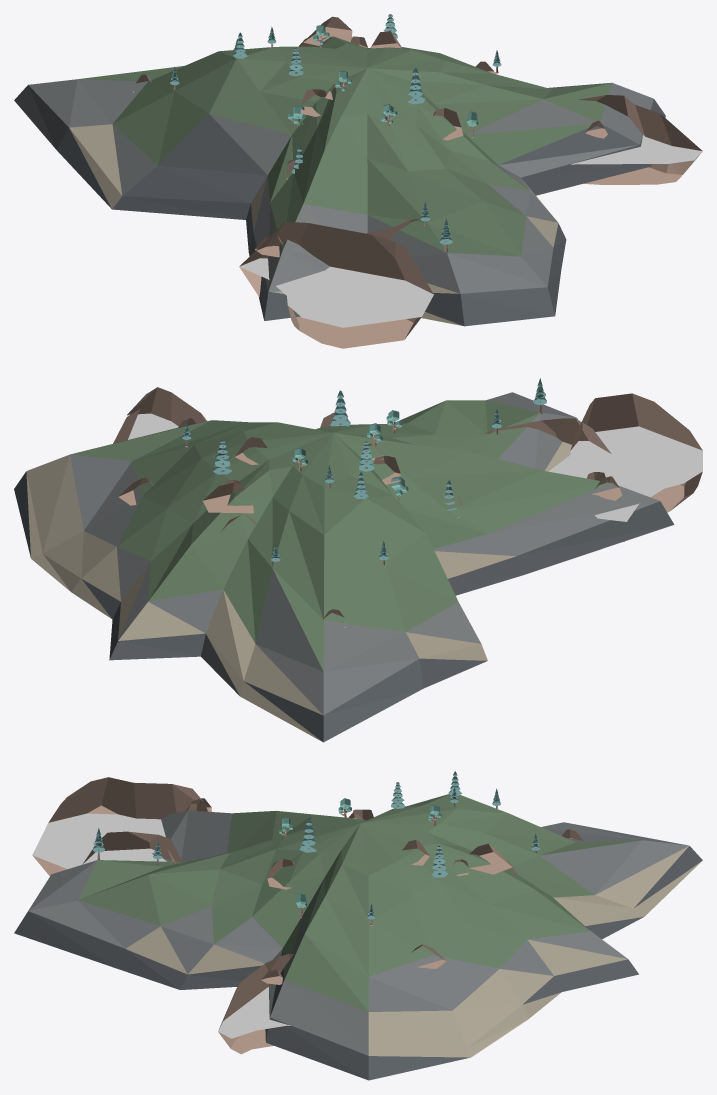
The model's file is wrights_isle_lod0.glb.
3 renders of one model, top to bottom at view 1: azimuth 30°, elevation 25°; view 2: azimuth 150°, elevation 25°; view 3: azimuth 270°, elevation 25°, orthographic. The views are drawn at different scales.
Size of the model in its own units: 2.48 by 0.7008 by 3.03.
